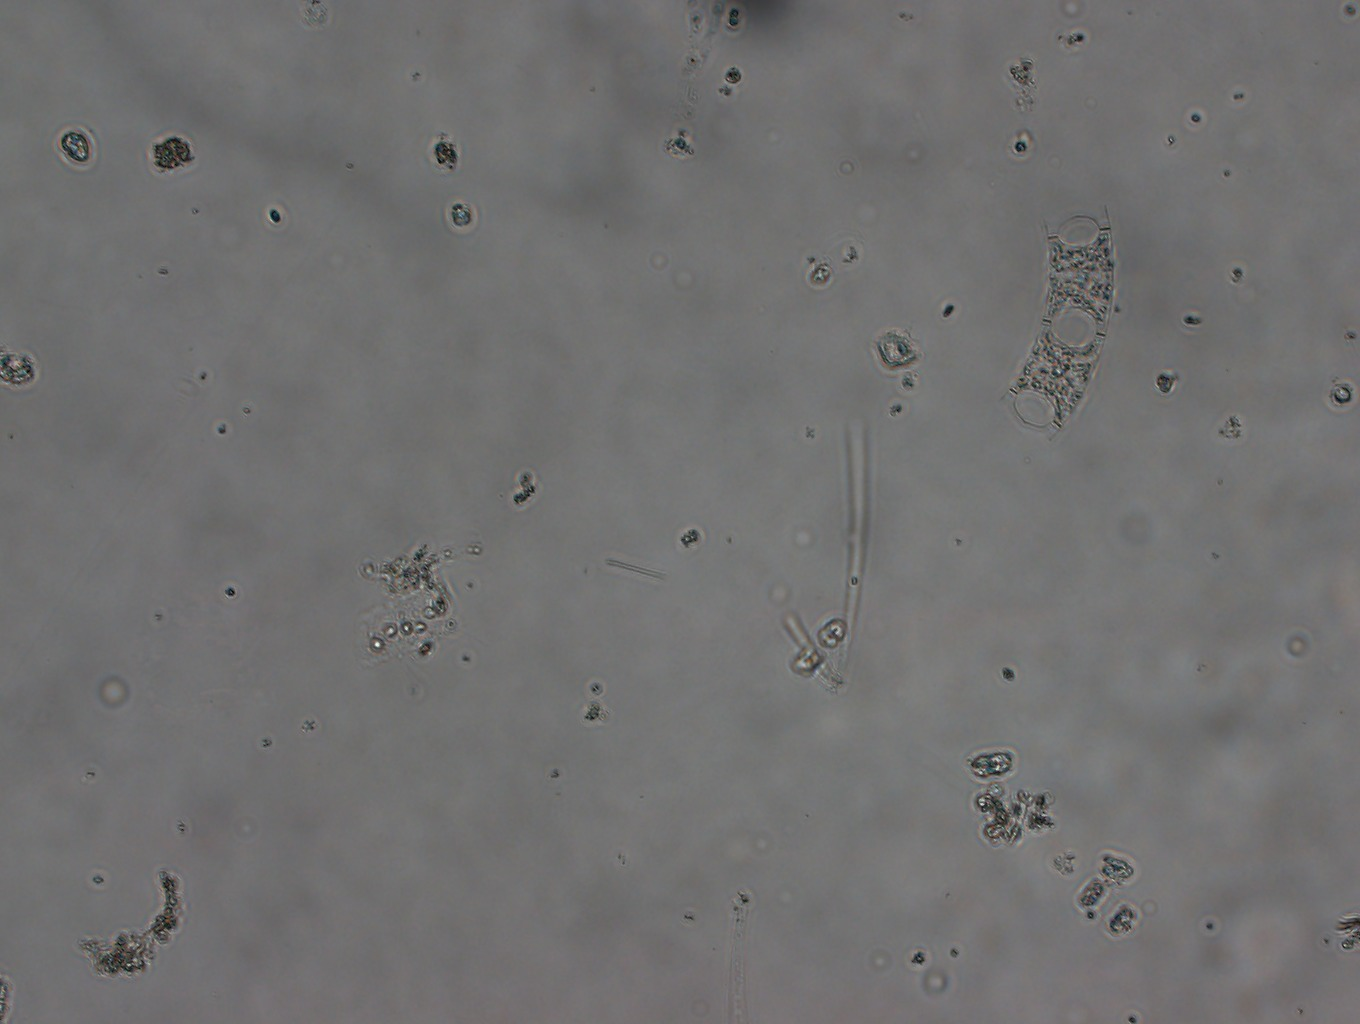eucampia: (996, 198, 1120, 452)
